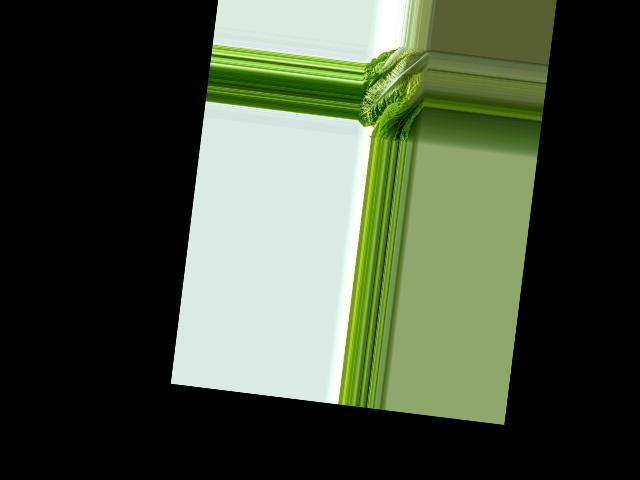lettuce: (356, 42, 430, 145)
